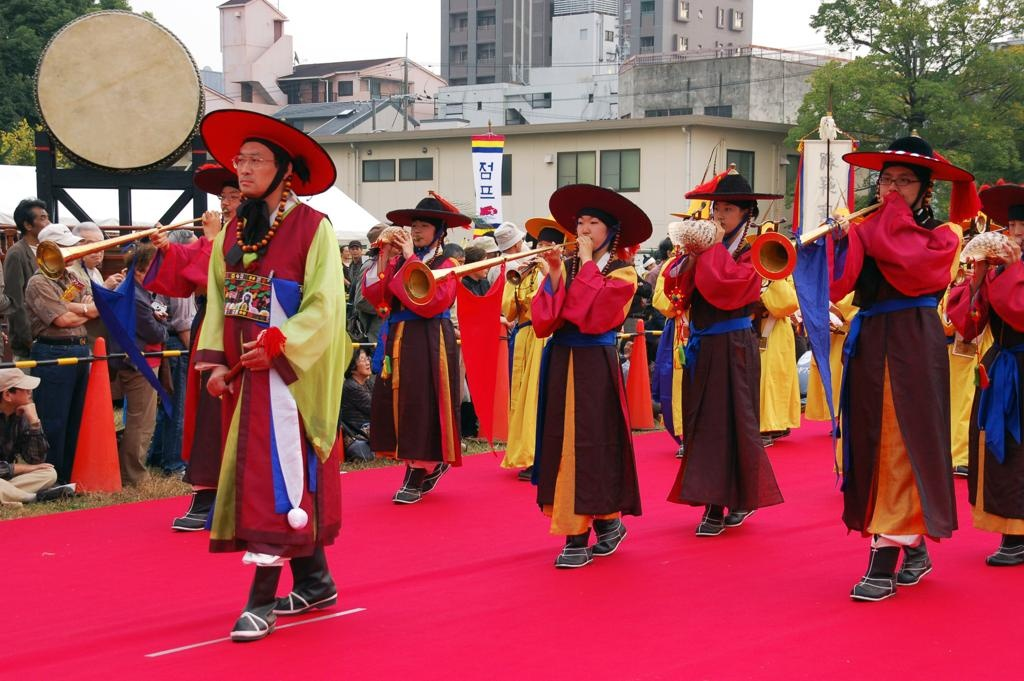human_face: (234, 143, 274, 197), (878, 164, 918, 210), (574, 209, 608, 251), (711, 197, 737, 235), (80, 232, 104, 266), (218, 187, 240, 223), (1006, 217, 1024, 252), (409, 222, 435, 246), (32, 207, 52, 233), (537, 239, 559, 262), (58, 242, 76, 268), (354, 350, 372, 376), (623, 342, 639, 362), (476, 256, 488, 280), (450, 255, 464, 275), (484, 248, 496, 268), (512, 234, 524, 254), (350, 248, 360, 260), (342, 246, 350, 258), (651, 261, 659, 271)
